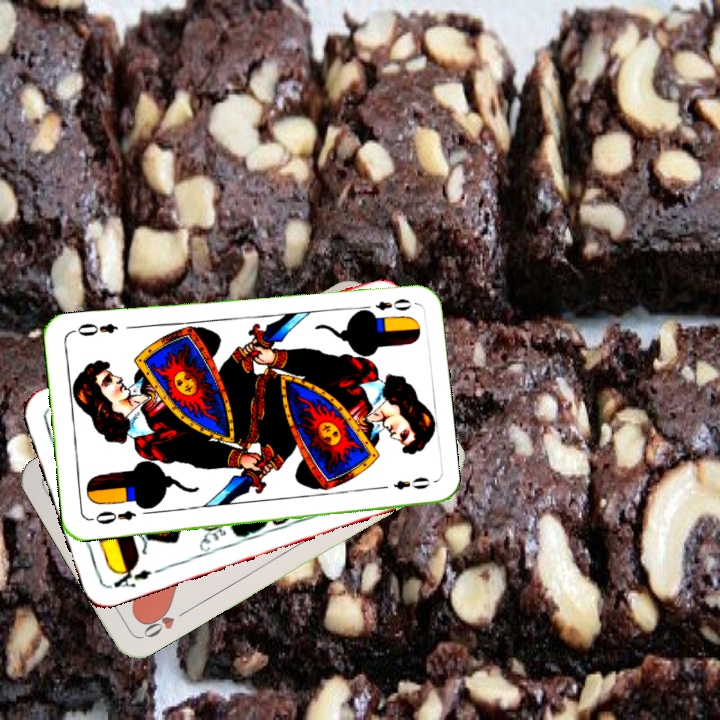EA: (107, 560, 154, 591)
EO: (357, 295, 413, 317), (86, 506, 138, 527)
HO: (138, 602, 192, 641)
